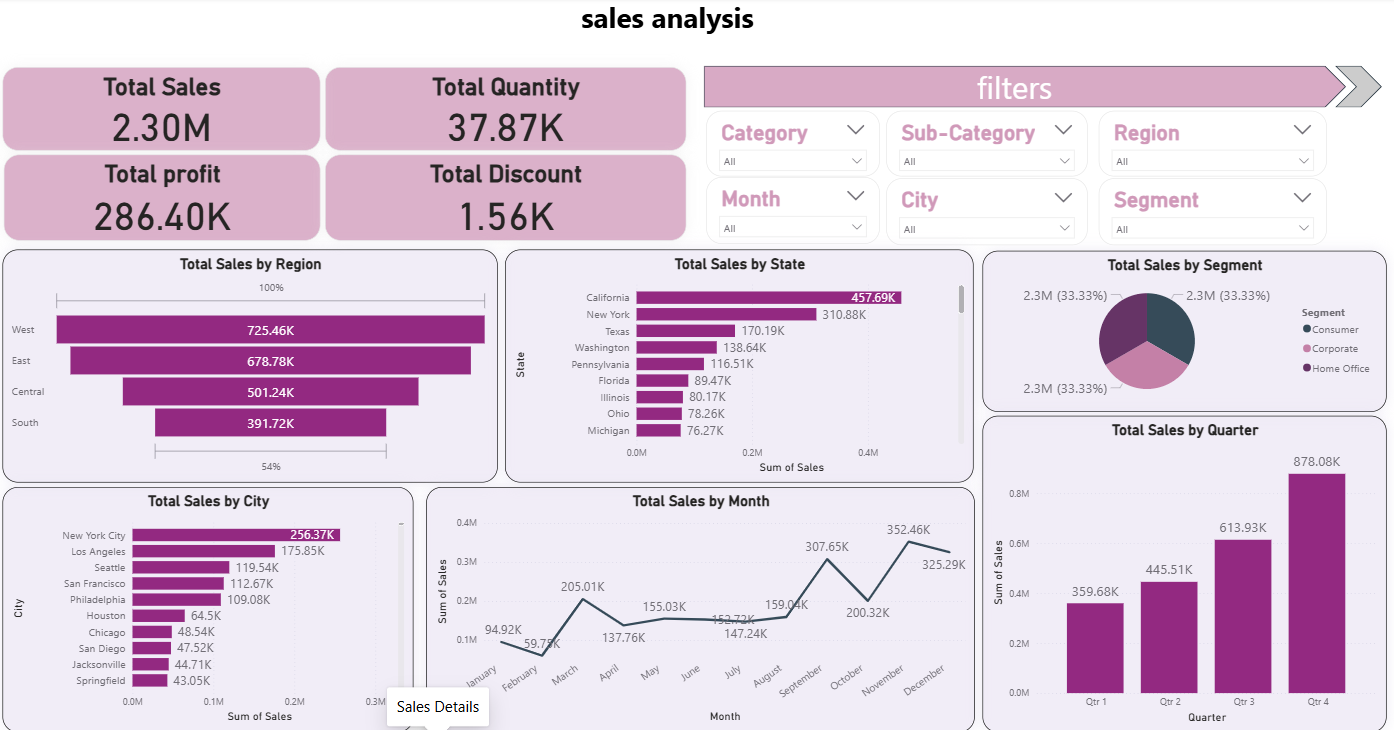

This screenshot's page, from the dashboard's own definition file:
{"tool":"powerbi","page":{"name":"Sales Details","canvas":[1800,950],"ordinal":2},"visuals":[{"type":"card","title":"Total Quantity","fields":{"Values":["Orders.total Discount"]},"box":[418.8,91,466,107.9],"z":0},{"type":"card","title":"Total Sales","fields":{"Values":["Orders.total sales"]},"box":[2.7,91,410.4,107.9],"z":1000},{"type":"card","title":"Total profit","fields":{"Values":["Orders.total Profit"]},"box":[4.4,203.8,408.8,111.2],"z":2000},{"type":"card","title":"Total Discount","fields":{"Values":["Orders.total Discount"]},"box":[418.8,203.8,466,111.2],"z":3000},{"type":"pieChart","title":"Total Sales by Segment","fields":{"Y":["Sum(Orders.Sales)"],"Category":["Orders$FilterDatabase.Segment"]},"box":[1268.9,327,521.6,207.7],"z":4000},{"type":"clusteredColumnChart","title":"Total  Sales by Quarter","fields":{"Category":["Orders.Order Date.Variation.Date Hierarchy.Quarter"],"Y":["Sum(Orders.Sales)"]},"box":[1268.9,541.2,521.6,408.8],"z":5000},{"type":"shape","box":[907.7,89.3,829,54],"z":6000},{"type":"shape","box":[1723.3,89.3,60.5,54],"z":7000},{"type":"slicer","fields":{"Values":["Orders.Category"]},"box":[911.3,146.6,224,85],"z":8000},{"type":"slicer","fields":{"Values":["Orders.Sub-Category"]},"box":[1144.2,146.5,260,85],"z":9000},{"type":"slicer","fields":{"Values":["Orders.Region"]},"box":[1418.9,146.5,294.3,85],"z":10000},{"type":"slicer","fields":{"Values":["Orders.City"]},"box":[1143.5,233.2,260,86.7],"z":11000},{"type":"slicer","fields":{"Values":["Orders.Order Date.Variation.Date Hierarchy.Month"]},"box":[911.3,231.6,224,86.7],"z":12000},{"type":"slicer","fields":{"Values":["Orders.Segment"]},"box":[1418.2,233.2,294.3,86.7],"z":13000},{"type":"clusteredBarChart","title":"Total Sales by City","fields":{"Category":["Orders.City"],"Y":["Sum(Orders.Sales)"]},"box":[3.9,632.9,530.7,316.5],"z":14000},{"type":"funnel","title":"Total Sales by Region","fields":{"Category":["Orders.Region"],"Y":["Sum(Orders.Sales)"]},"box":[3.3,325.4,639.4,300.9],"z":15000},{"type":"clusteredBarChart","title":"Total  Sales by State","fields":{"Category":["Orders.State"],"Y":["Sum(Orders.Sales)"]},"box":[652.4,325.4,605,300.9],"z":16000},{"type":"lineChart","title":"Total Sales by Month","fields":{"Y":["Sum(Orders.Sales)"],"Category":["Orders.Order Date.Variation.Date Hierarchy.Month"]},"box":[550,632.9,708.2,316.5],"z":17000},{"type":"shape","box":[419.5,0,884.2,50],"z":18000}]}

Visuals, with their boxes in screenshot pixels (x1, y1, x2, y2), scaled from the page's 1800x950 canvas onto the 1394x730 screenshot:
"Total Quantity" card: [x1=324, y1=70, x2=685, y2=153]
"Total Sales" card: [x1=2, y1=70, x2=320, y2=153]
"Total profit" card: [x1=3, y1=157, x2=320, y2=242]
"Total Discount" card: [x1=324, y1=157, x2=685, y2=242]
"Total Sales by Segment" pieChart: [x1=983, y1=251, x2=1387, y2=411]
"Total  Sales by Quarter" clusteredColumnChart: [x1=983, y1=416, x2=1387, y2=729]
shape: [x1=703, y1=69, x2=1345, y2=110]
shape: [x1=1335, y1=69, x2=1381, y2=110]
slicer - Orders.Category: [x1=706, y1=113, x2=879, y2=178]
slicer - Orders.Sub-Category: [x1=886, y1=113, x2=1087, y2=178]
slicer - Orders.Region: [x1=1099, y1=113, x2=1327, y2=178]
slicer - Orders.City: [x1=886, y1=179, x2=1087, y2=246]
slicer - Orders.Order Date.Variation.Date Hierarchy.Month: [x1=706, y1=178, x2=879, y2=245]
slicer - Orders.Segment: [x1=1098, y1=179, x2=1326, y2=246]
"Total Sales by City" clusteredBarChart: [x1=3, y1=486, x2=414, y2=729]
"Total Sales by Region" funnel: [x1=3, y1=250, x2=498, y2=481]
"Total  Sales by State" clusteredBarChart: [x1=505, y1=250, x2=974, y2=481]
"Total Sales by Month" lineChart: [x1=426, y1=486, x2=974, y2=729]
shape: [x1=325, y1=0, x2=1010, y2=38]
